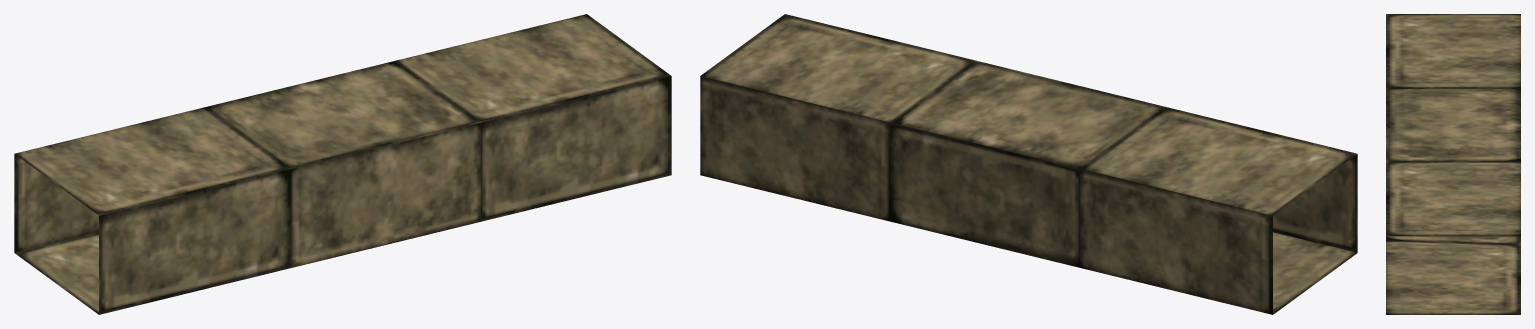
Rendered from OVERHILL_A_01_OBJECT310.fbx.
The picture shows the model from 3 angles, left to right: view 1: azimuth 30°, elevation 25°; view 2: azimuth 150°, elevation 25°; view 3: azimuth 270°, elevation 25°; orthographic projection. The views are drawn at different scales.
Parts seen in each view (by area): view 1: OVERHILL_A_01_OBJECT310; view 2: OVERHILL_A_01_OBJECT310; view 3: OVERHILL_A_01_OBJECT310.
Part boxes in pixels (x1,y1,x2,y2): OVERHILL_A_01_OBJECT310: (14,14,671,314); OVERHILL_A_01_OBJECT310: (700,14,1357,314); OVERHILL_A_01_OBJECT310: (1386,14,1520,314).
Size of the model in its own units: 32635 by 5399 by 8373.
1 material, 1 textured.
